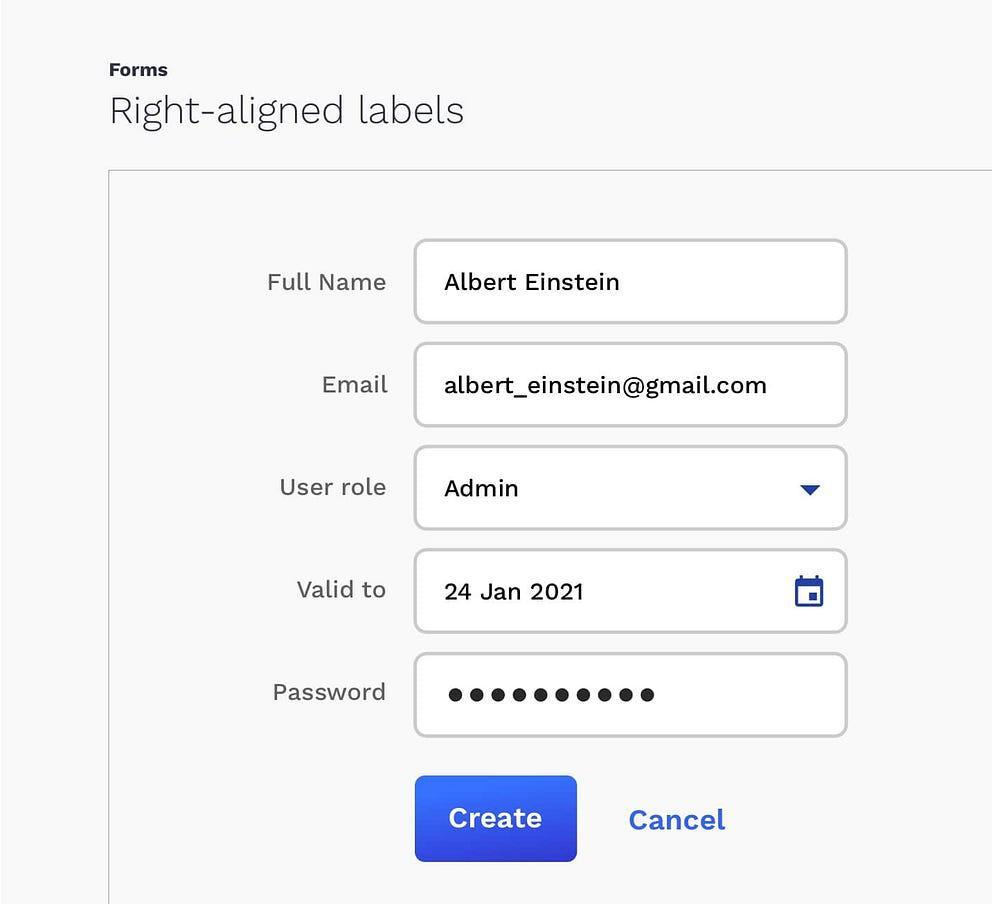button: (415, 774, 580, 863)
dropdown: (416, 445, 847, 535)
input: (416, 340, 849, 429), (415, 651, 848, 740), (416, 548, 850, 636), (418, 241, 850, 324)
label: (102, 95, 468, 132), (264, 266, 389, 297), (624, 805, 731, 838), (271, 678, 389, 707), (277, 474, 388, 501), (289, 574, 390, 602), (316, 373, 393, 398), (104, 58, 172, 81)
